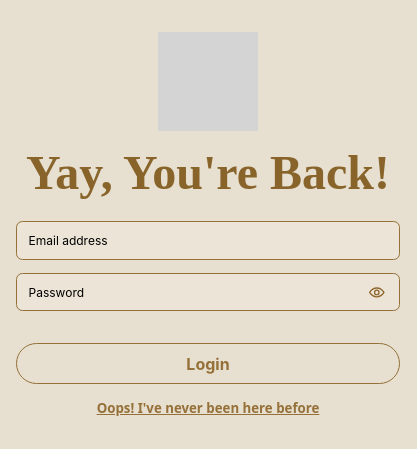
login page › shows fallback submit error for non-Error rejection
Step 1. Type "john@example.com" into the field labelled "Email address" → (208, 240), box [16, 221, 400, 260]
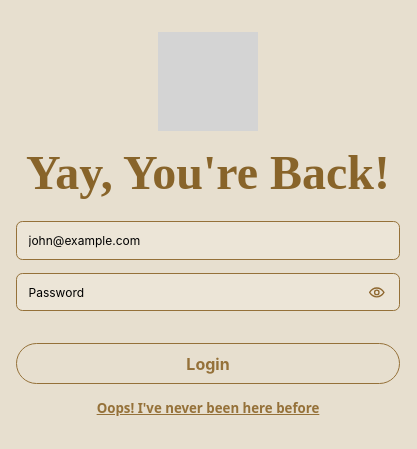
Step 2. Type "bad" into the password field labelled "Password" → (208, 292), box [16, 273, 400, 312]
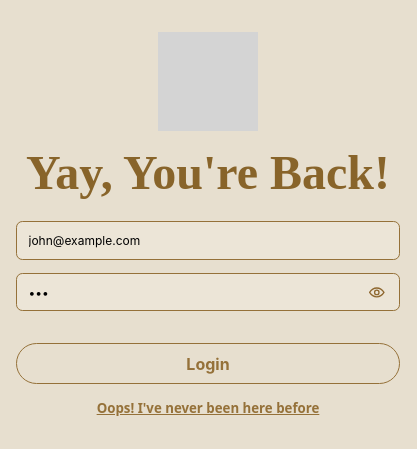
Step 3. Click the button "Login" → (208, 364), box [16, 343, 400, 384]
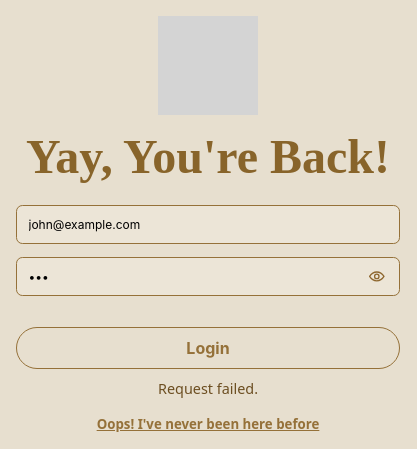
Expected: the text "Request failed." is shown, [158, 379, 258, 398]
